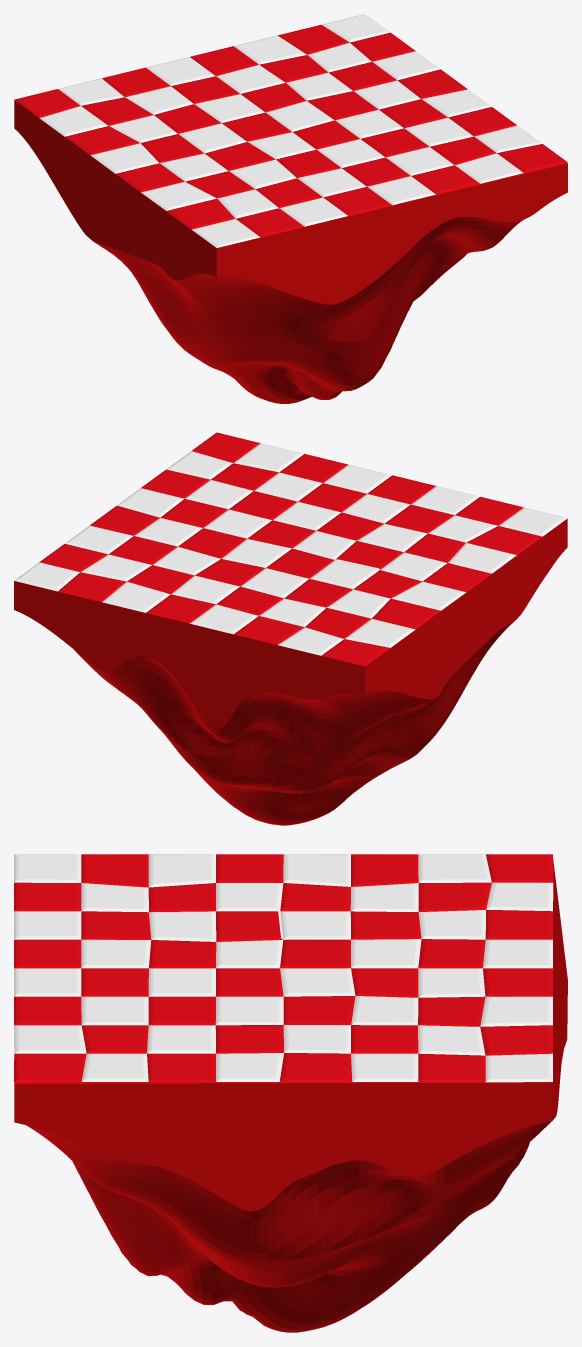
File: echiquier-principal.glb
3 views of the same model, one above another, from view 1: azimuth 30°, elevation 25°; view 2: azimuth 150°, elevation 25°; view 3: azimuth 270°, elevation 25° (orthographic). The views are drawn at different scales.
Visible parts, largest first — view 1: Carreaux_Essai, Cube; view 2: Carreaux_Essai, Cube; view 3: Carreaux_Essai, Cube.
Boxes of the visible parts, x1,y1,x2,y2 form: Carreaux_Essai: (14,14,567,247); Cube: (14,93,567,403); Carreaux_Essai: (14,432,567,666); Cube: (14,518,567,825); Carreaux_Essai: (14,854,553,1082); Cube: (14,854,567,1332).
Bounding box in the file's own units: 20.16 × 14.83 × 20.68.
